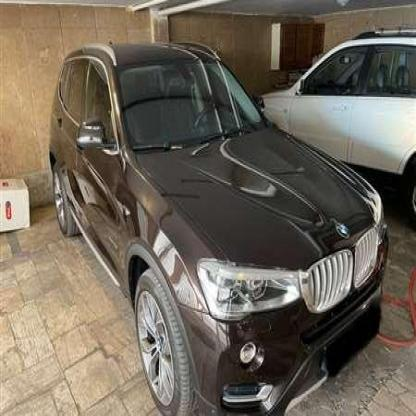Car: (46, 43, 388, 416), (266, 24, 416, 205)
